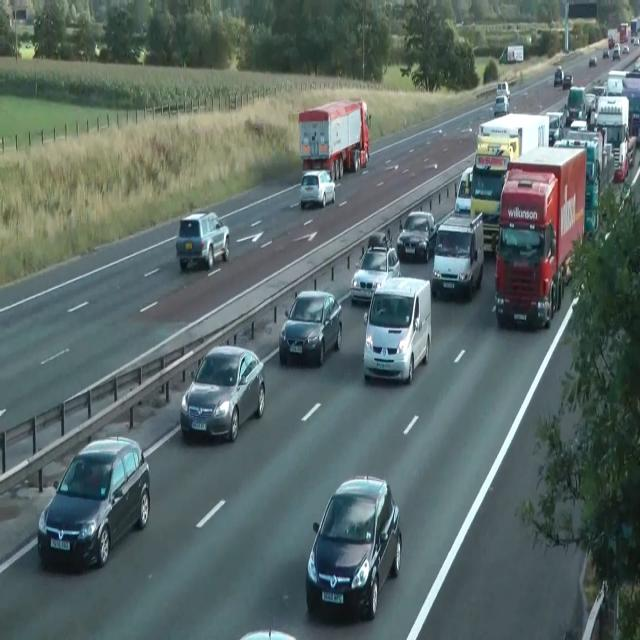bus: (305, 474, 401, 620), (179, 344, 265, 443), (278, 289, 342, 366), (350, 237, 400, 303), (397, 210, 438, 262), (300, 169, 336, 209), (454, 166, 473, 214), (239, 625, 296, 639), (544, 111, 564, 145), (490, 95, 508, 117), (496, 81, 510, 101), (570, 119, 588, 131), (554, 67, 564, 86), (562, 74, 572, 90), (622, 44, 630, 54), (588, 56, 596, 66), (603, 50, 609, 58)
jeep: (37, 434, 151, 572), (362, 275, 432, 384), (431, 210, 484, 300), (176, 210, 230, 270)
minibus: (493, 144, 587, 329), (298, 98, 372, 181), (552, 132, 602, 238), (469, 151, 509, 254), (476, 112, 550, 162), (594, 95, 630, 181), (606, 69, 640, 143), (498, 45, 524, 63), (630, 16, 640, 42)
